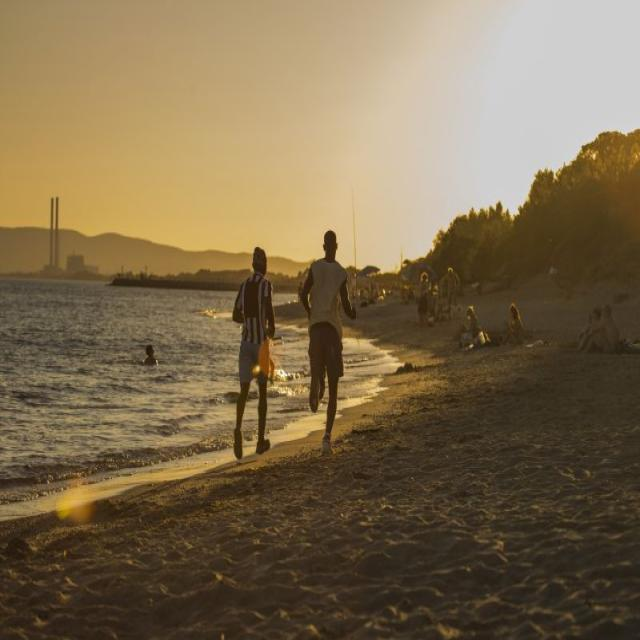running: (297, 229, 358, 455), (231, 246, 279, 464)
